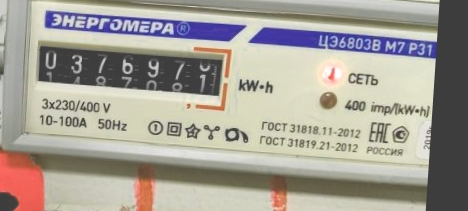0: (41, 47, 59, 69)
1: (196, 71, 208, 93)
3: (68, 51, 83, 75)
6: (120, 52, 134, 74)
7: (94, 50, 109, 74), (171, 57, 185, 80)
9: (145, 55, 159, 78)
screen: (27, 32, 234, 113)
